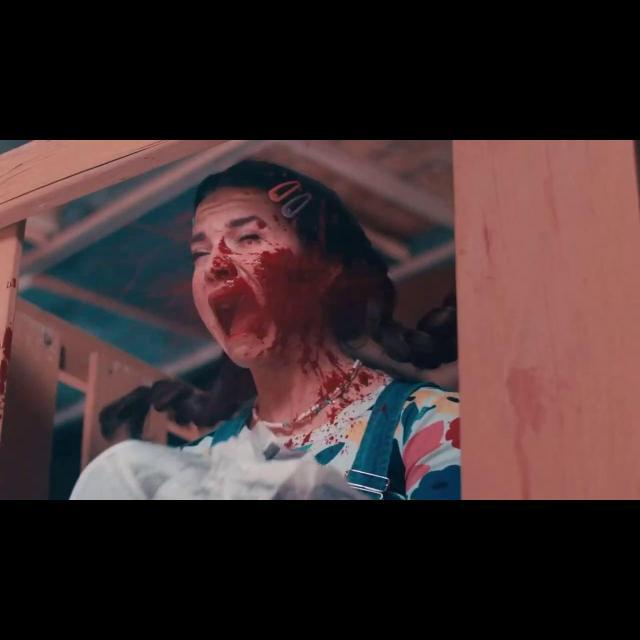blood: (124, 162, 419, 460), (501, 366, 546, 500), (6, 278, 16, 287), (9, 322, 12, 324)
